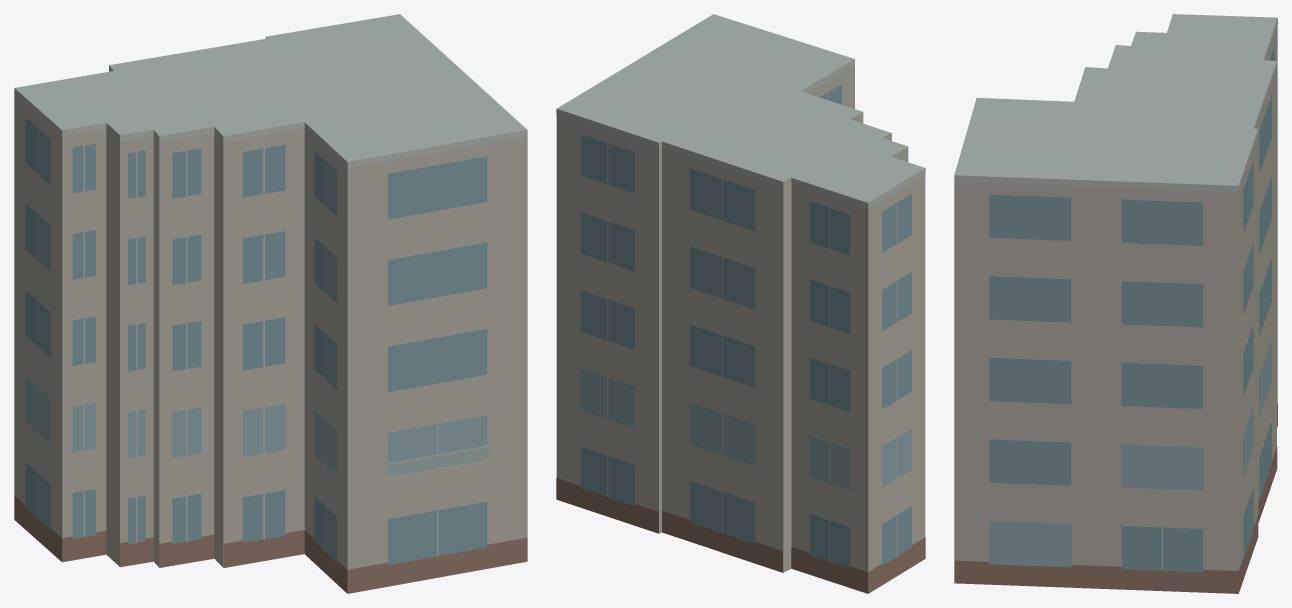
Rendered from survey-upis-32796464.glb.
3 renders of one model, left to right at view 1: azimuth 30°, elevation 25°; view 2: azimuth 150°, elevation 25°; view 3: azimuth 270°, elevation 25°, orthographic. The views are drawn at different scales.
Visible parts, largest first — view 1: survey-upis-32796464.tmp; view 2: survey-upis-32796464.tmp; view 3: survey-upis-32796464.tmp.
Part boxes in pixels (x1,y1,x2,y2): survey-upis-32796464.tmp: (14,14,527,593); survey-upis-32796464.tmp: (556,14,925,593); survey-upis-32796464.tmp: (954,14,1277,593).
Bounding box in the file's own units: 14.19 × 15.7 × 11.29.
